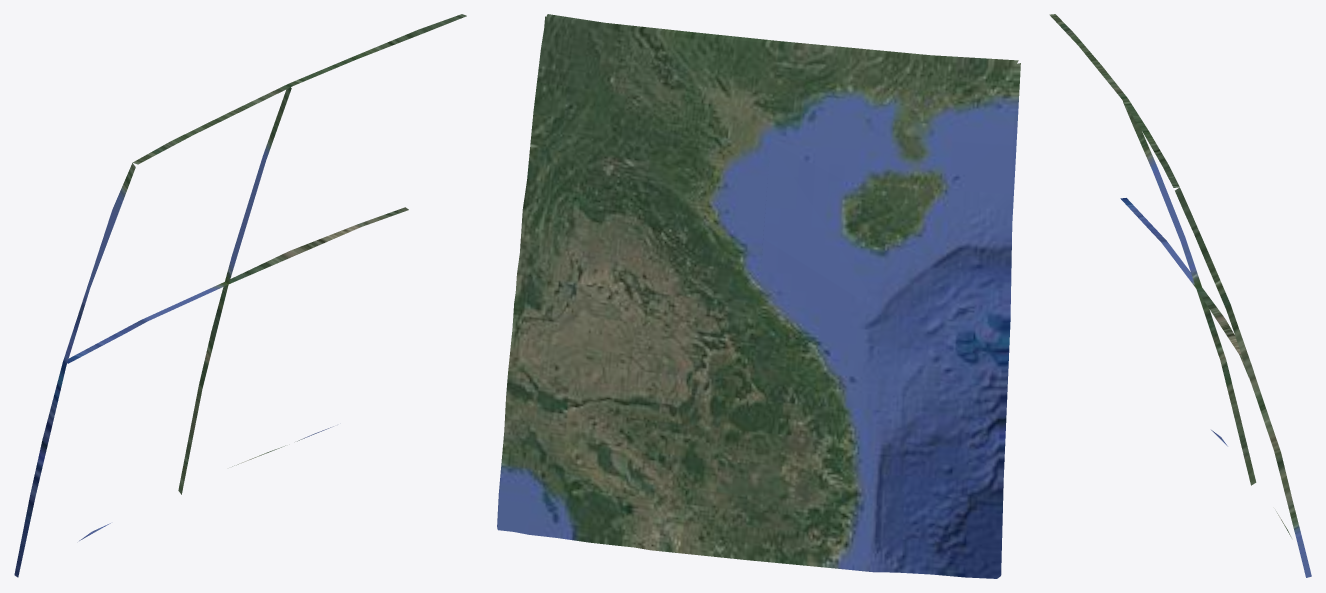
3 views of the same model, side by side, from view 1: azimuth 30°, elevation 25°; view 2: azimuth 150°, elevation 25°; view 3: azimuth 270°, elevation 25° (orthographic). The views are drawn at different scales.
Size of the model in its own units: 1255413 by 1208039 by 710311.
Materials: 1 (1 with a texture image).
